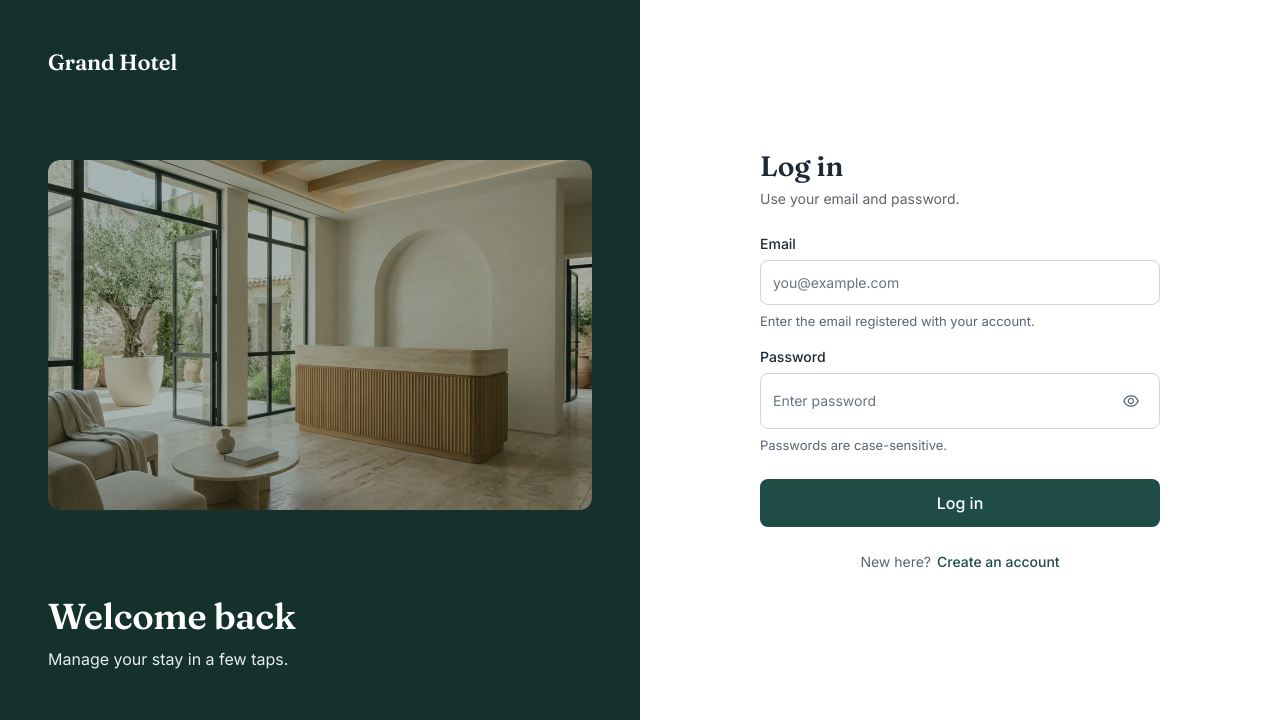
Test: LoginForm › maps 422 server validation details onto matching form fields
Type "guest@example.com" into the field labelled "Email" at (960, 282), box [760,260,1160,304]
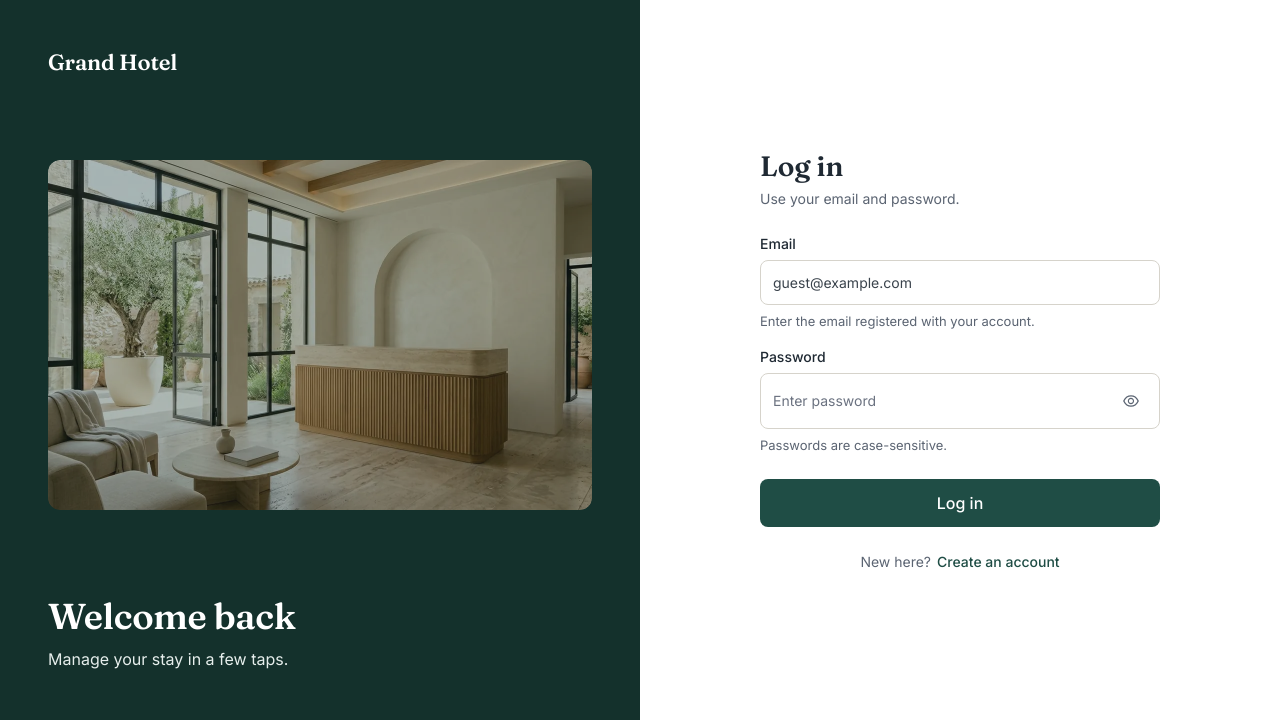
Type "Passw0rd!123" into the password field labelled "Password" at (942, 400), box [773,384,1111,416]
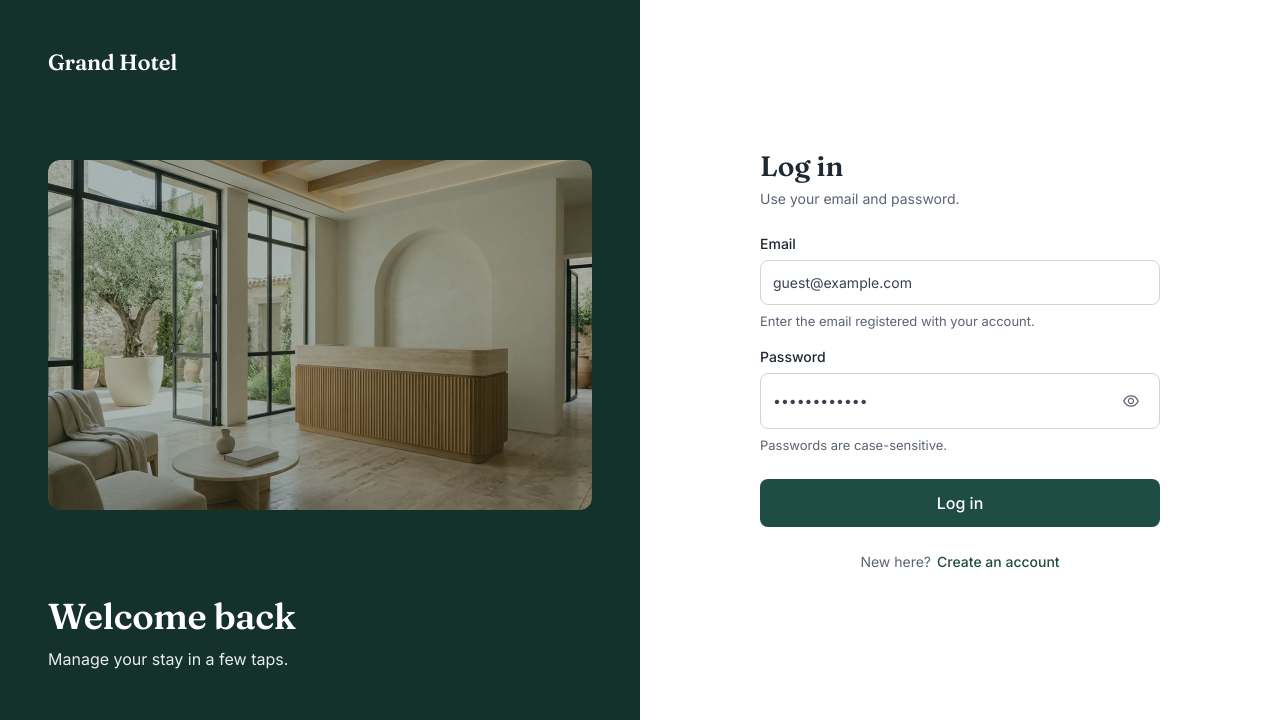
Click the button "Log in" at (960, 502), box [760,478,1160,526]
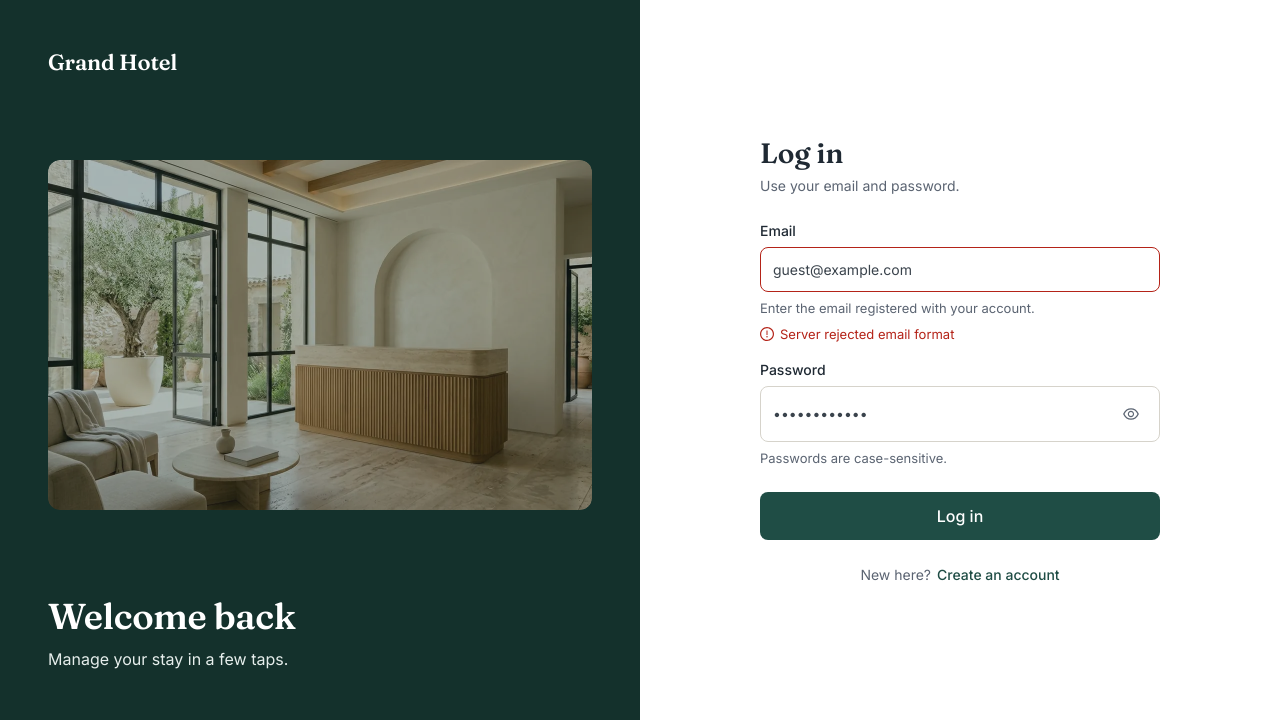
Expected: the text "Server rejected email format" is shown, [780,324,954,344]
